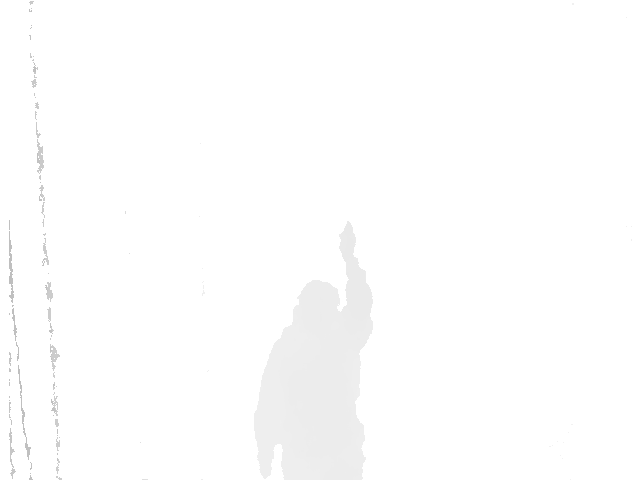hand: (336, 220, 359, 266)
head: (288, 281, 348, 334)
person: (253, 221, 372, 480)
